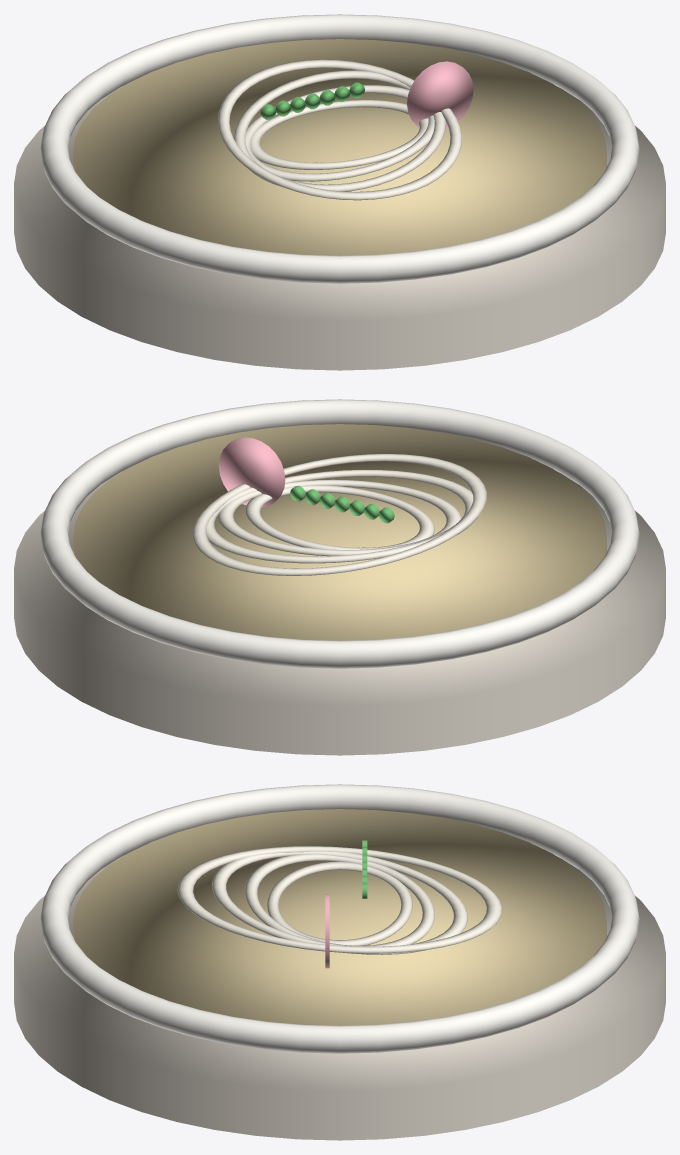
The model's file is udon.glb.
3 renders of one model, top to bottom at view 1: azimuth 30°, elevation 25°; view 2: azimuth 150°, elevation 25°; view 3: azimuth 270°, elevation 25°, orthographic.
Size of the model in its own units: 2.1 by 0.5375 by 2.1.
